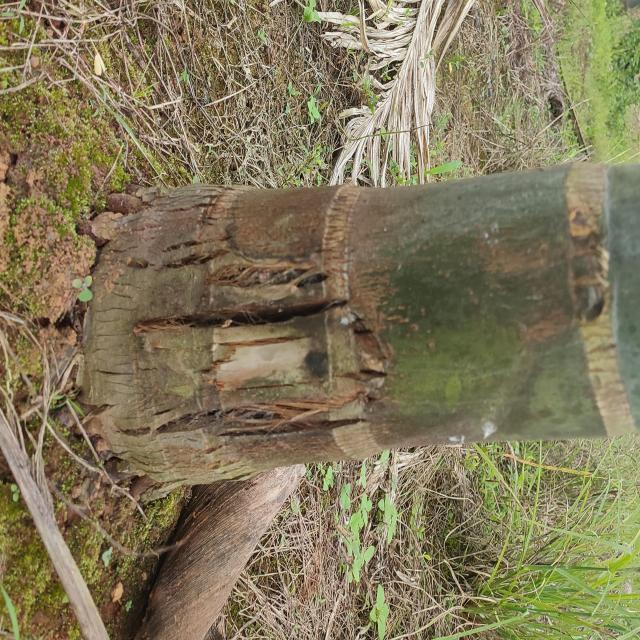Stem_Cracking: (48, 90, 560, 568)
